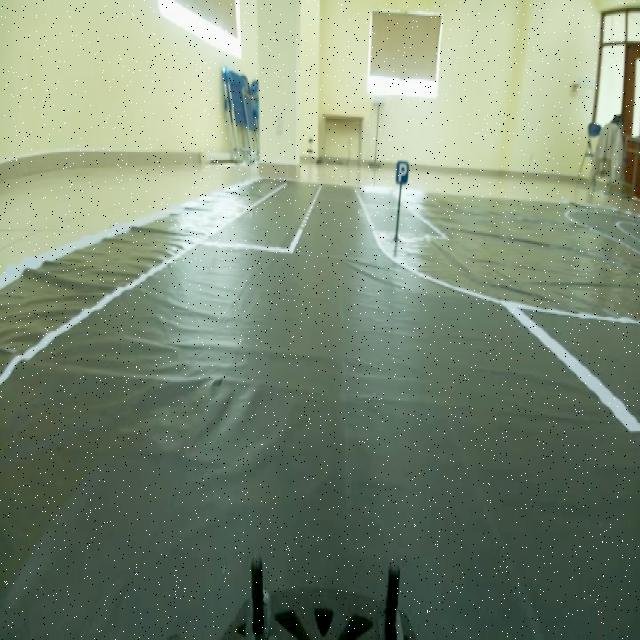parking: (392, 154, 413, 191)
